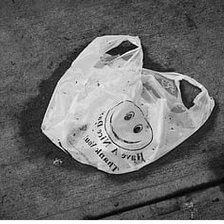plastic_bag: (38, 31, 219, 177)
